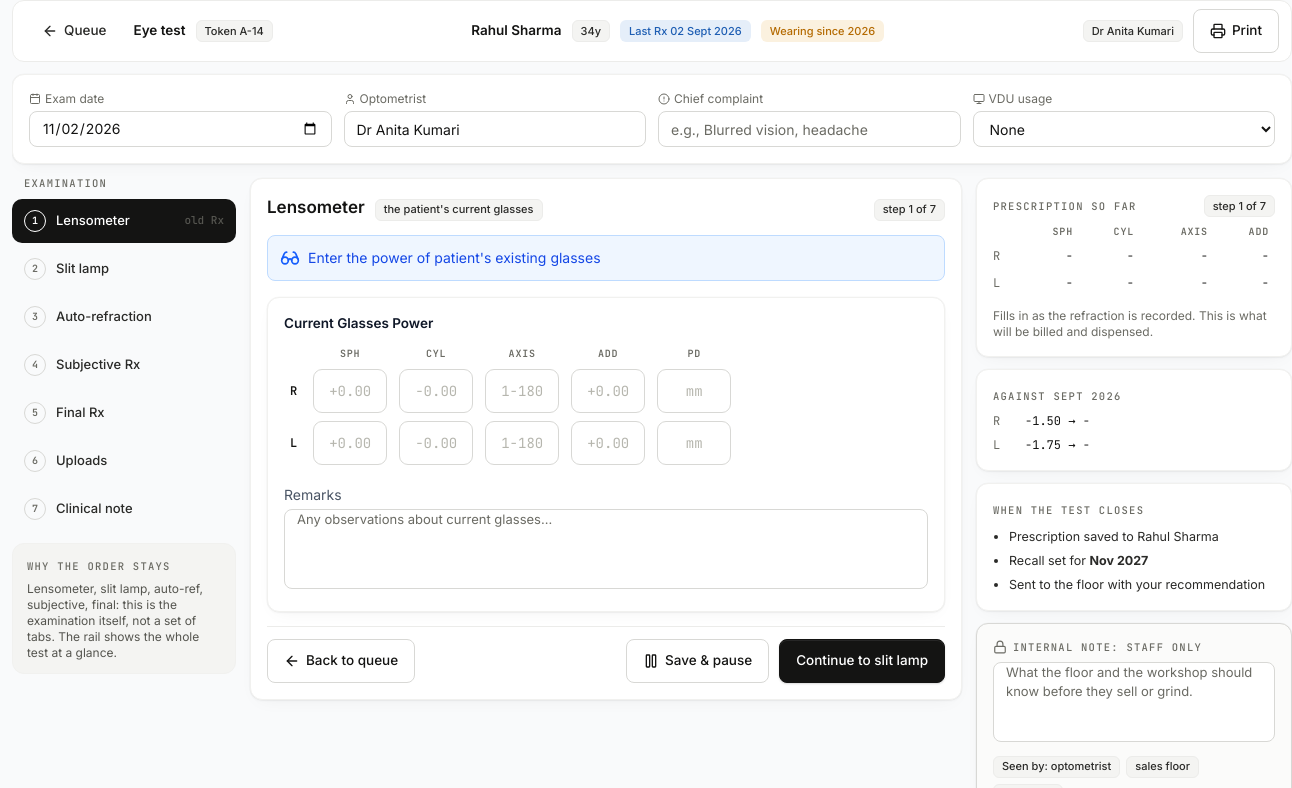
Scenario: Save & pause › refuses an impossible power on pause too -- in a banner, and nothing is sent
The image size is (1292, 788).
Check: the button "1 Lensometer old Rx" is shown, box [12,198,236,242]
In the field named "Right SPH": (350, 391) [313,369,387,413], type "-9999"
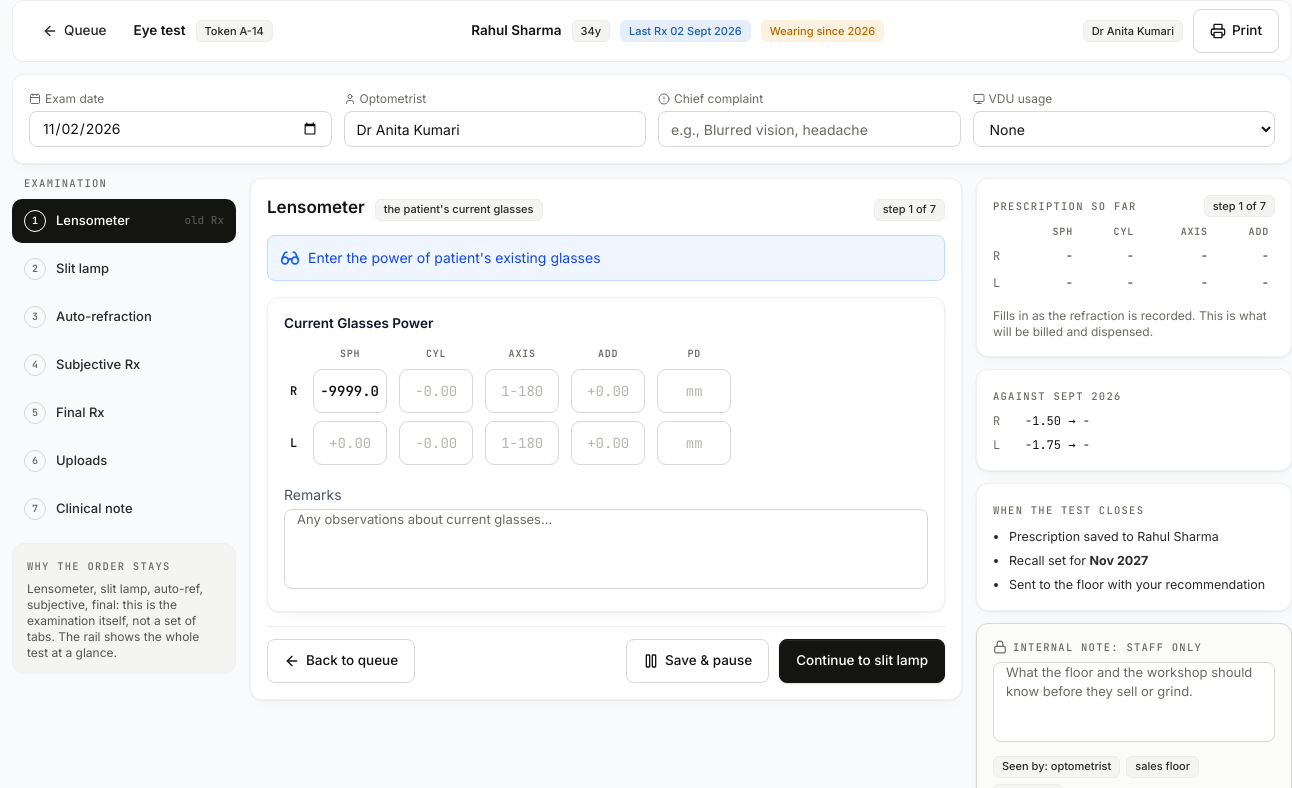
Click the button "Save & pause": (698, 661) [626,639,769,683]
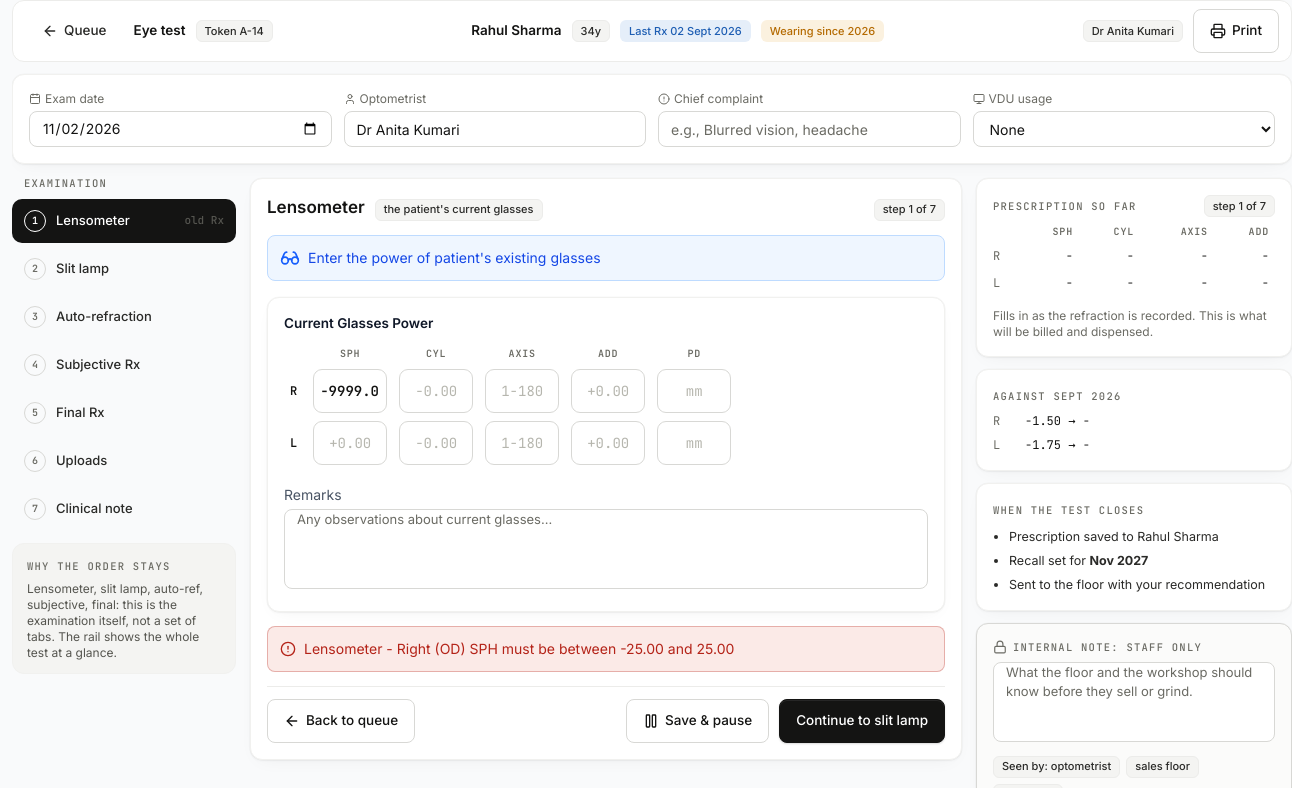
Check: the message shows "SPH", box [304,640,734,657]
